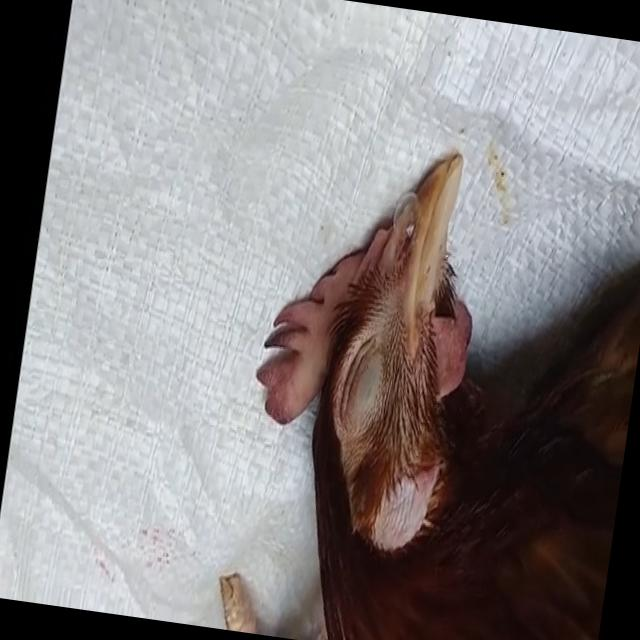bird flu: (189, 105, 640, 640), (212, 119, 640, 640)
